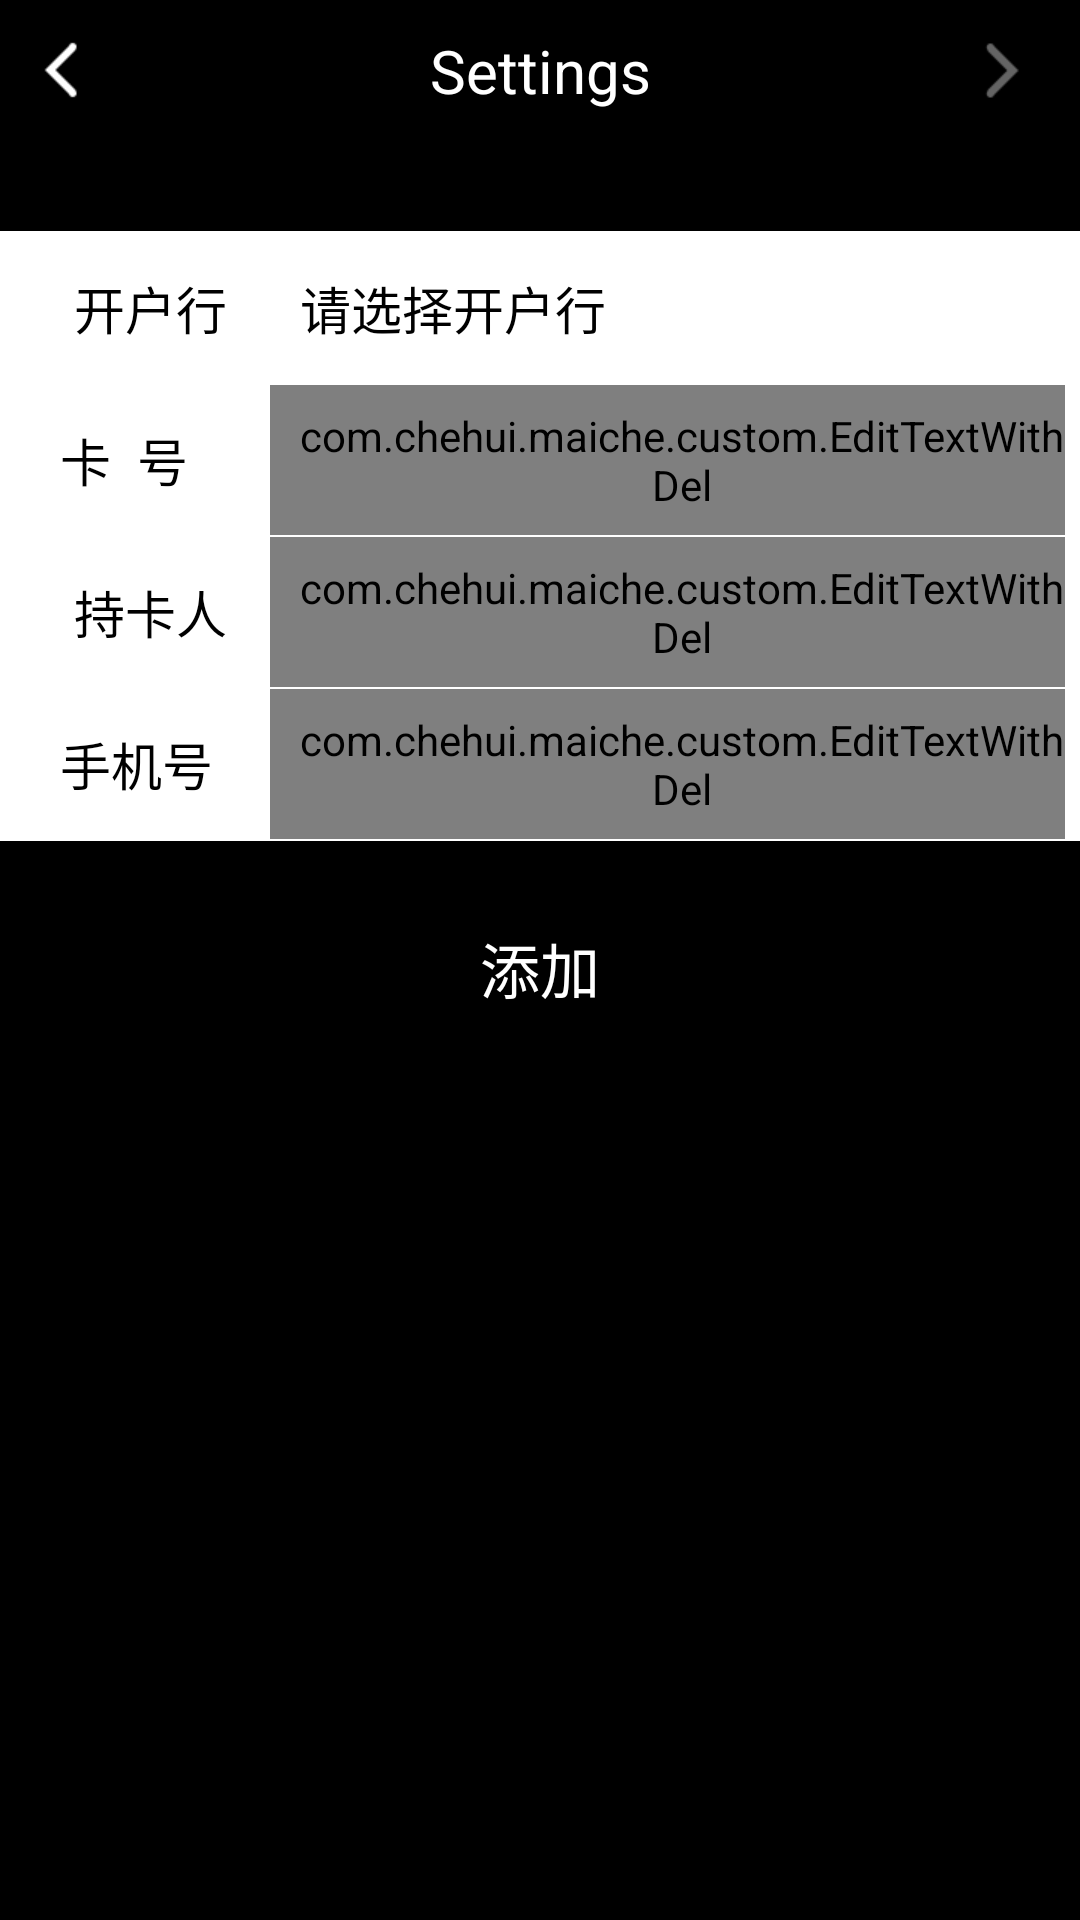

Icon click points for this 1080px×1920px phone screenshot, format (x,y):
arrow left: (61,70)
arrow right: (1002,70)
